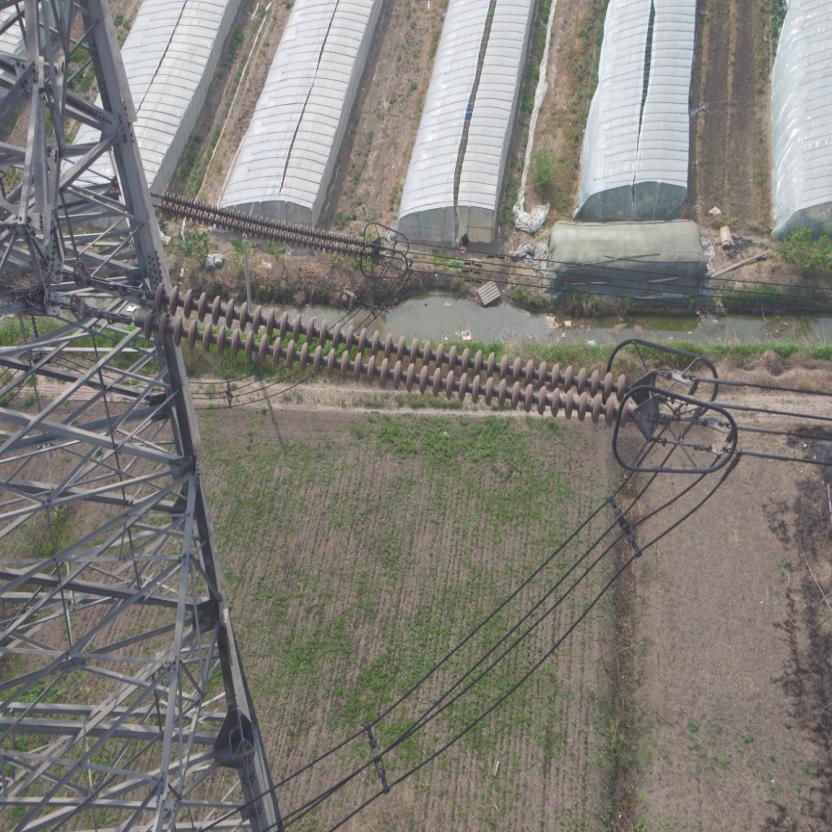insulator: (116, 276, 646, 428), (150, 190, 374, 260)
